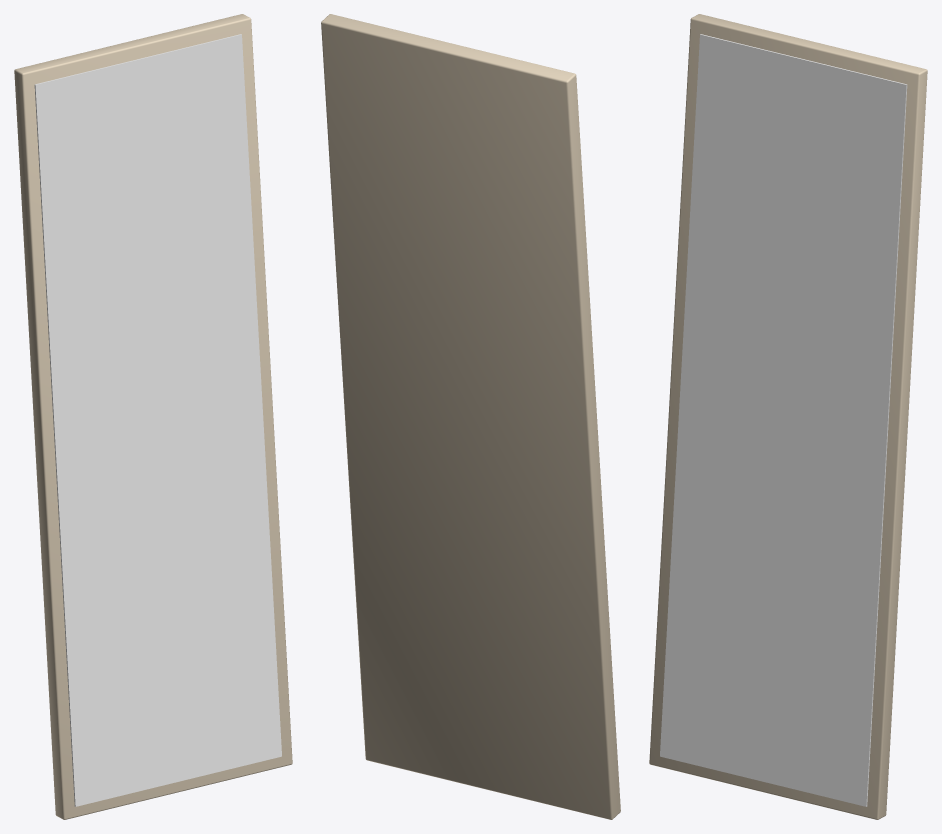
The model's file is mo_mirror_full.glb.
3 renders of one model, left to right at view 1: azimuth 30°, elevation 25°; view 2: azimuth 150°, elevation 25°; view 3: azimuth 330°, elevation 25°, orthographic. The views are drawn at different scales.
Visible parts, largest first — view 1: glass, frame; view 2: frame; view 3: glass, frame.
Boxes of the visible parts, <box> form: glass: <box>34,34,281,806</box>; frame: <box>14,14,292,819</box>; frame: <box>321,14,620,819</box>; glass: <box>660,34,907,806</box>; frame: <box>649,14,927,819</box>.
Bounding box in the file's own units: 0.6 × 1.79 × 0.2285.
